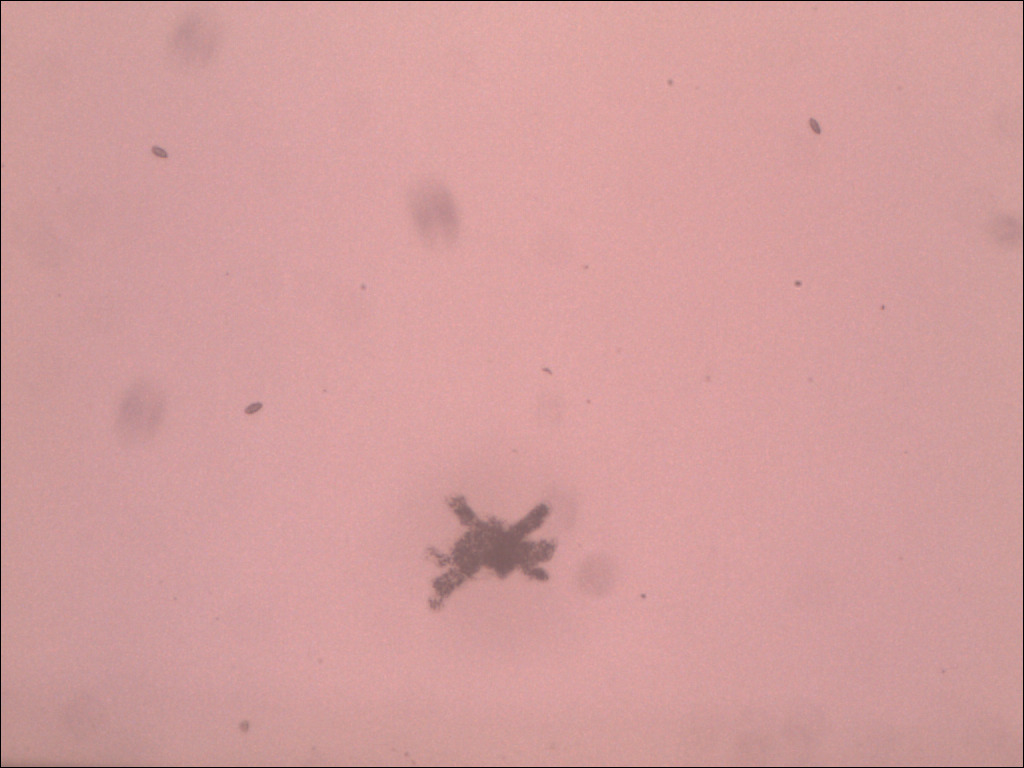amoeba: (411, 483, 583, 624)
